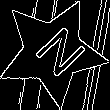N_SW: (21, 20, 84, 83)
